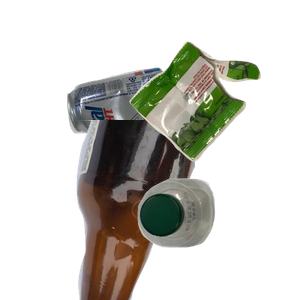glass: (60, 120, 300, 300)
metal: (65, 65, 231, 192)
plastic: (135, 176, 300, 300)
trash: (127, 39, 300, 193)
